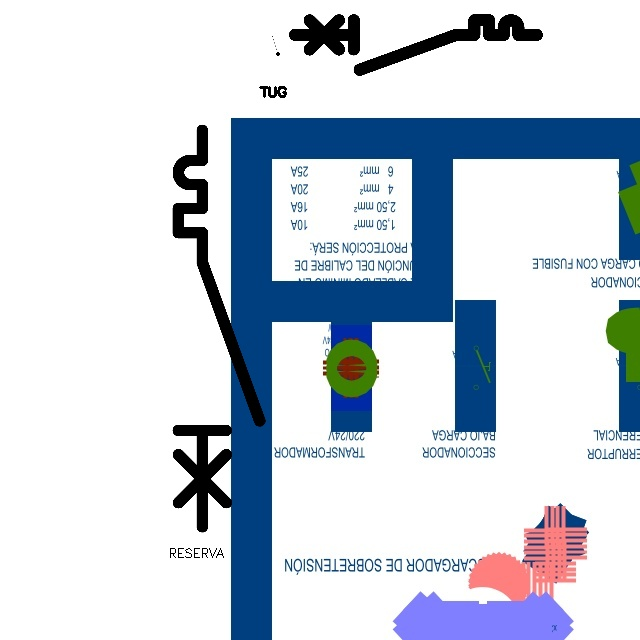interruptor_termomagnetico: (168, 120, 270, 537), (288, 14, 542, 76)
